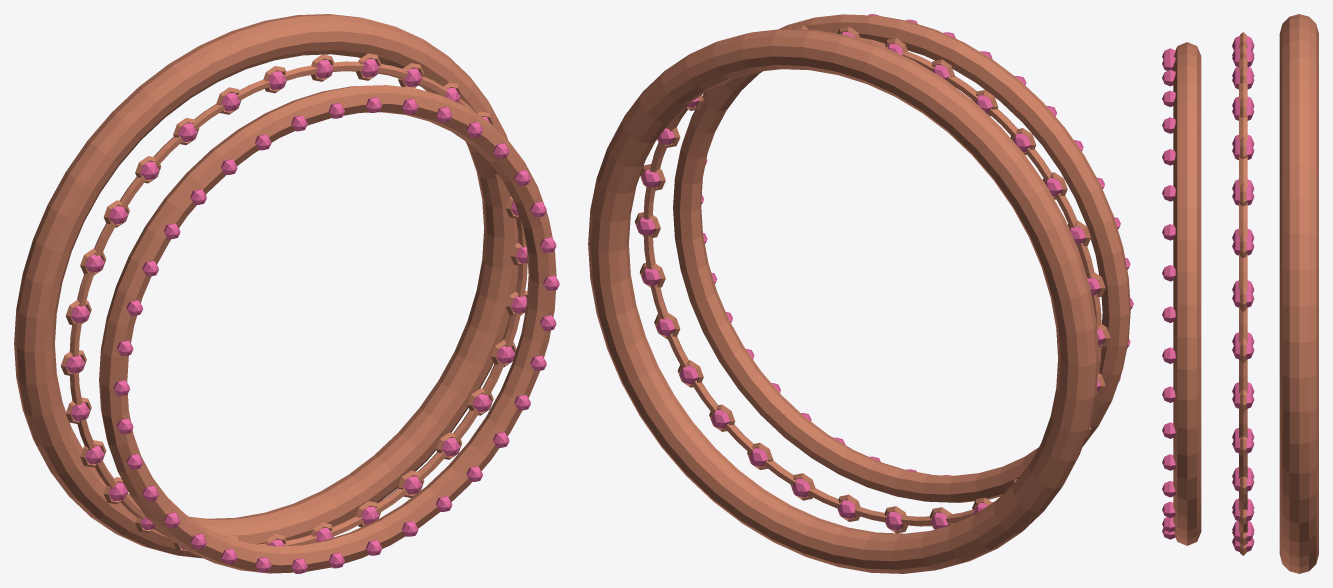
Rendered from bracelet_stack.obj.
3 views of the same model, side by side, from view 1: azimuth 30°, elevation 25°; view 2: azimuth 150°, elevation 25°; view 3: azimuth 270°, elevation 25° (orthographic). The views are drawn at different scales.
Bounding box in the file's own units: 0.2 × 0.2 × 0.056.
